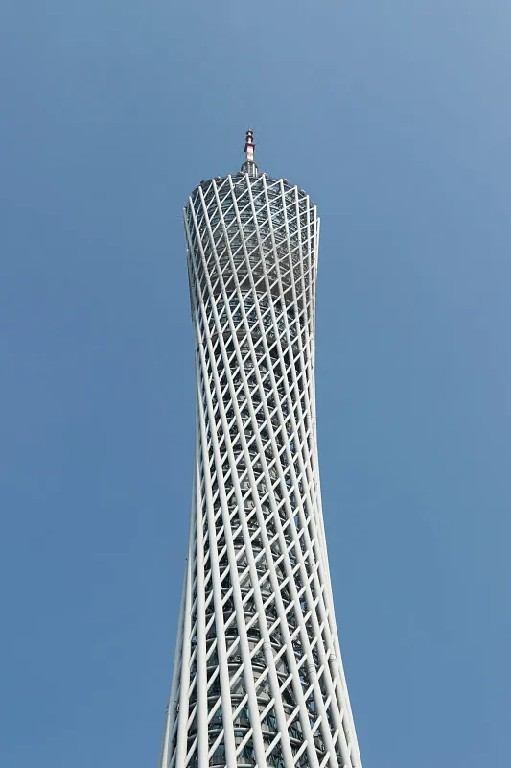Canton: (162, 127, 372, 768)
